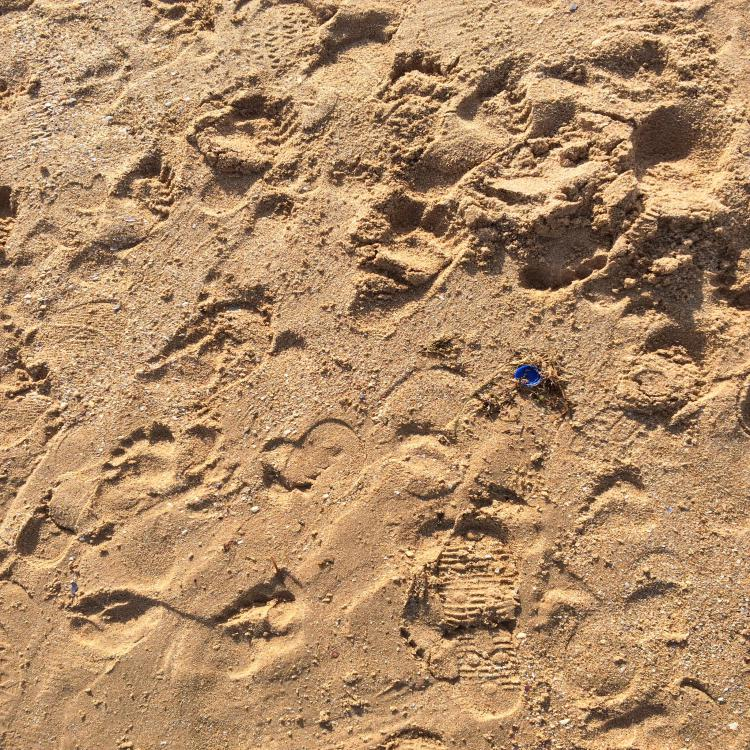Plastic bottle cap: (514, 366, 542, 386)
